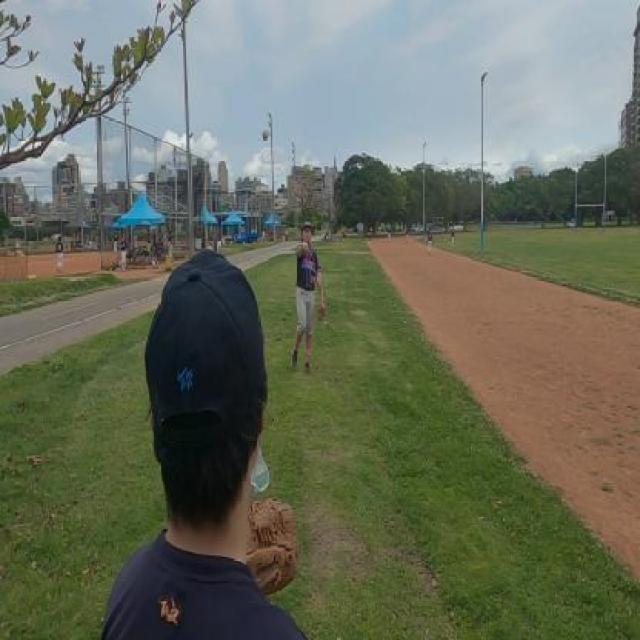baseball: (262, 129, 270, 142)
